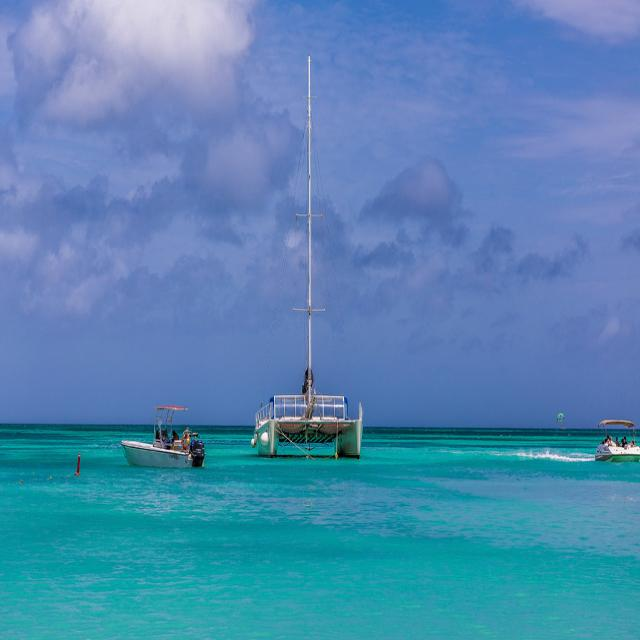Boat: (234, 63, 378, 478), (120, 401, 206, 472), (592, 418, 640, 464)
